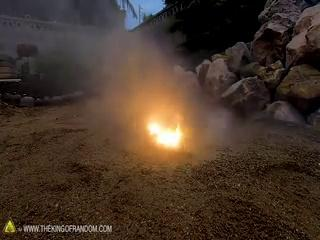Fire: (143, 116, 186, 149)
